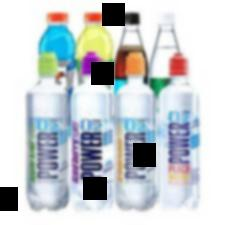powerO2_orange: (114, 45, 160, 213)
